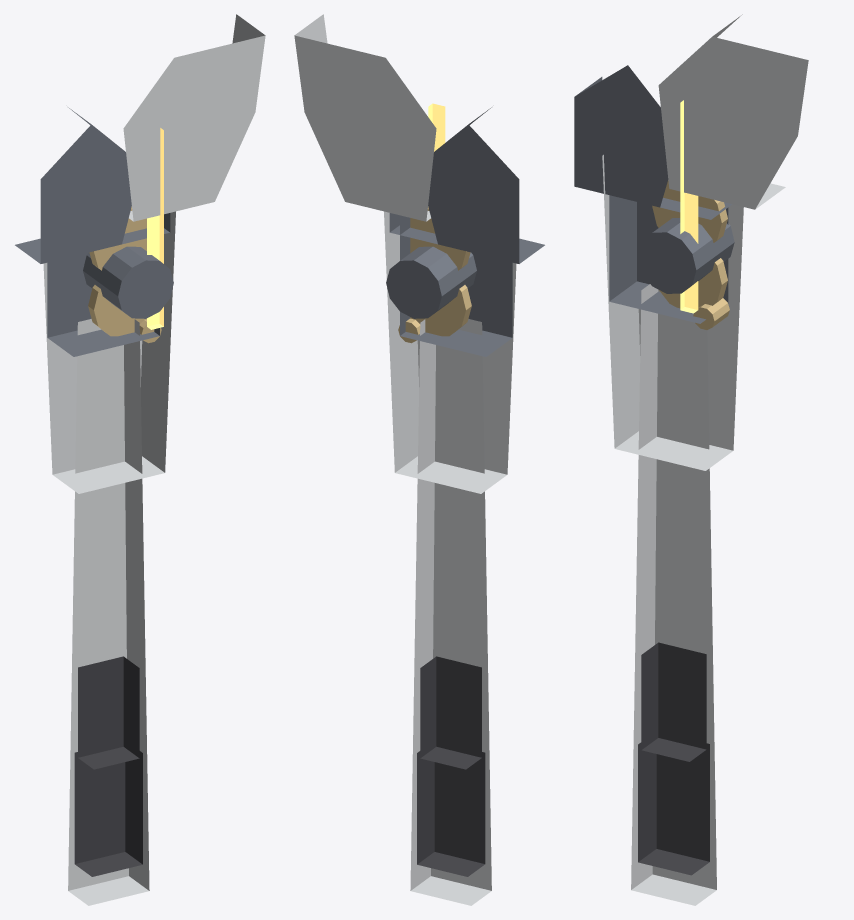
File: hero-pipe-wrench.glb
The picture shows the model from 3 angles, left to right: view 1: azimuth 30°, elevation 25°; view 2: azimuth 150°, elevation 25°; view 3: azimuth 330°, elevation 25°; orthographic projection. The views are drawn at different scales.
Parts seen in each view (by area): view 1: steel_handle, steel_fixed_jaw, blackened_steel_movable_jaw, steel_shaft, rubber_grip_lower, rubber_grip_upper, blackened_steel_adjust_housing, blackened_steel_worm_gear, brass_adjust_collar_front, ember_core_channel, brass_adjust_collar_rear; view 2: steel_handle, steel_fixed_jaw, steel_shaft, blackened_steel_movable_jaw, rubber_grip_lower, rubber_grip_upper, blackened_steel_adjust_housing, blackened_steel_worm_gear, brass_adjust_collar_front, brass_adjust_collar_rear, ember_core_channel, blackened_steel_adjust_bridge; view 3: steel_handle, steel_fixed_jaw, steel_shaft, blackened_steel_movable_jaw, rubber_grip_lower, rubber_grip_upper, blackened_steel_adjust_housing, blackened_steel_worm_gear, ember_core_channel, brass_adjust_collar_rear, brass_adjust_collar_front, brass_fastener.
Boxes of the visible parts, bbox=[...] form: steel_handle: bbox=[68, 319, 149, 905]; steel_fixed_jaw: bbox=[123, 14, 265, 221]; blackened_steel_movable_jaw: bbox=[15, 107, 131, 263]; steel_shaft: bbox=[43, 211, 175, 493]; rubber_grip_lower: bbox=[74, 751, 142, 876]; rubber_grip_upper: bbox=[78, 656, 139, 769]; blackened_steel_adjust_housing: bbox=[47, 253, 159, 356]; blackened_steel_worm_gear: bbox=[83, 246, 173, 318]; brass_adjust_collar_front: bbox=[88, 285, 146, 336]; ember_core_channel: bbox=[147, 128, 163, 329]; brass_adjust_collar_rear: bbox=[89, 206, 146, 270]; steel_handle: bbox=[410, 319, 491, 905]; steel_fixed_jaw: bbox=[294, 14, 436, 221]; steel_shaft: bbox=[384, 211, 516, 493]; blackened_steel_movable_jaw: bbox=[428, 107, 544, 263]; rubber_grip_lower: bbox=[417, 751, 485, 876]; rubber_grip_upper: bbox=[420, 656, 481, 769]; blackened_steel_adjust_housing: bbox=[400, 215, 512, 356]; blackened_steel_worm_gear: bbox=[386, 246, 476, 318]; brass_adjust_collar_front: bbox=[410, 285, 471, 336]; brass_adjust_collar_rear: bbox=[410, 206, 470, 270]; ember_core_channel: bbox=[428, 103, 445, 151]; blackened_steel_adjust_bridge: bbox=[389, 213, 437, 244]; steel_handle: bbox=[631, 284, 716, 905]; steel_fixed_jaw: bbox=[658, 14, 808, 209]; steel_shaft: bbox=[602, 154, 743, 470]; blackened_steel_movable_jaw: bbox=[574, 65, 670, 207]; rubber_grip_lower: bbox=[638, 742, 709, 875]; rubber_grip_upper: bbox=[641, 642, 706, 761]; blackened_steel_adjust_housing: bbox=[609, 195, 728, 323]; blackened_steel_worm_gear: bbox=[637, 218, 734, 293]; ember_core_channel: bbox=[680, 100, 698, 313]; brass_adjust_collar_rear: bbox=[652, 180, 727, 242]; brass_adjust_collar_front: bbox=[659, 258, 727, 308]; brass_fastener: bbox=[693, 298, 729, 329].
Size of the model in its own units: 0.88 by 3.13 by 0.3.
